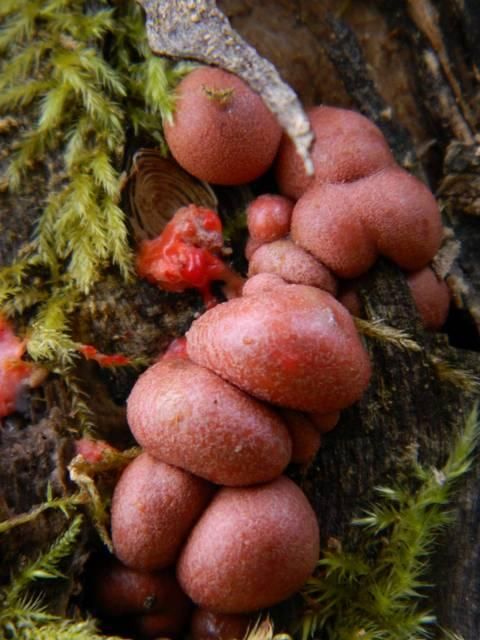Non-edible Mushroom: (103, 96, 448, 620), (109, 272, 373, 613), (124, 0, 317, 177), (183, 273, 373, 413), (124, 356, 293, 486), (175, 475, 320, 612), (288, 163, 444, 277), (160, 64, 283, 184), (108, 450, 209, 571), (276, 103, 394, 197)
